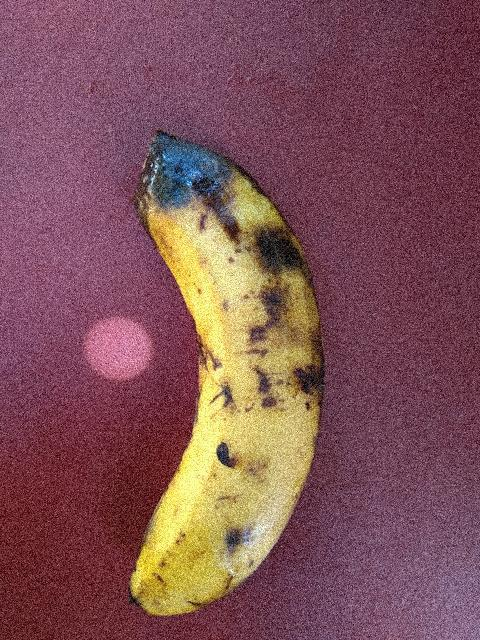overripe: (77, 240, 362, 639)
rotten: (111, 101, 337, 358)
